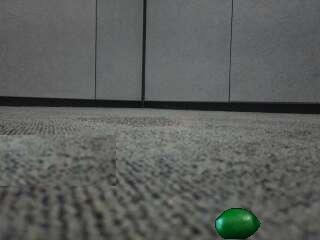Lime: (212, 205, 260, 240)
